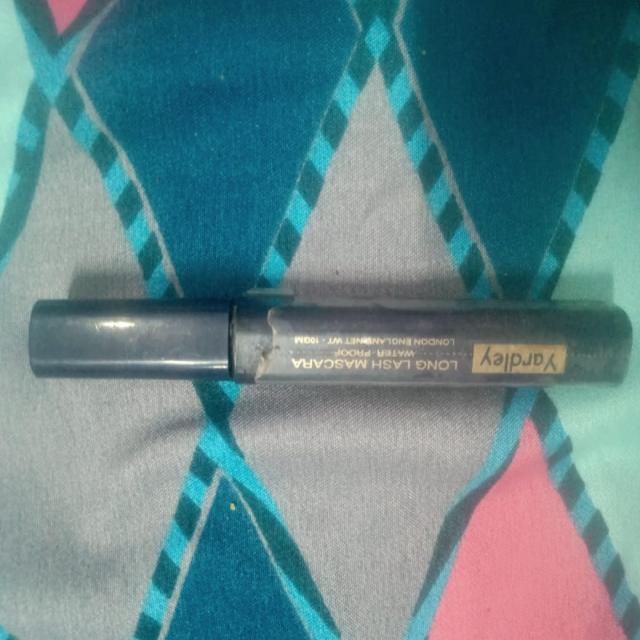lip liner: (30, 280, 632, 406)
